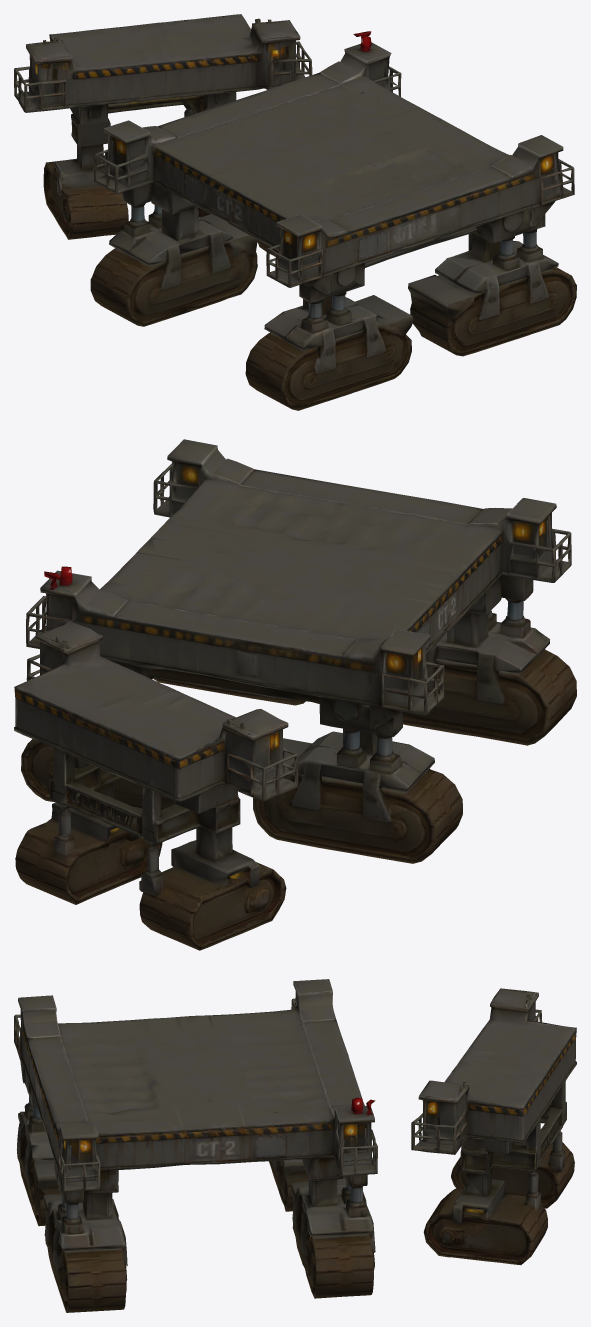
File: crawler-maquette-tripo.glb
The picture shows the model from 3 angles, top to bottom: view 1: azimuth 30°, elevation 25°; view 2: azimuth 150°, elevation 25°; view 3: azimuth 270°, elevation 25°; orthographic projection. The views are drawn at different scales.
Visible parts, largest first — view 1: tripo_node_45af7266-f7e0-439e-924f-247f677ffca2; view 2: tripo_node_45af7266-f7e0-439e-924f-247f677ffca2; view 3: tripo_node_45af7266-f7e0-439e-924f-247f677ffca2.
Part boxes in pixels (x1,y1,x2,y2): tripo_node_45af7266-f7e0-439e-924f-247f677ffca2: (14, 14, 576, 410); tripo_node_45af7266-f7e0-439e-924f-247f677ffca2: (14, 439, 576, 950); tripo_node_45af7266-f7e0-439e-924f-247f677ffca2: (14, 979, 576, 1312).
Bounding box in the file's own units: 0.742 × 0.3825 × 1.02.
Materials: 1 (1 with a texture image).
